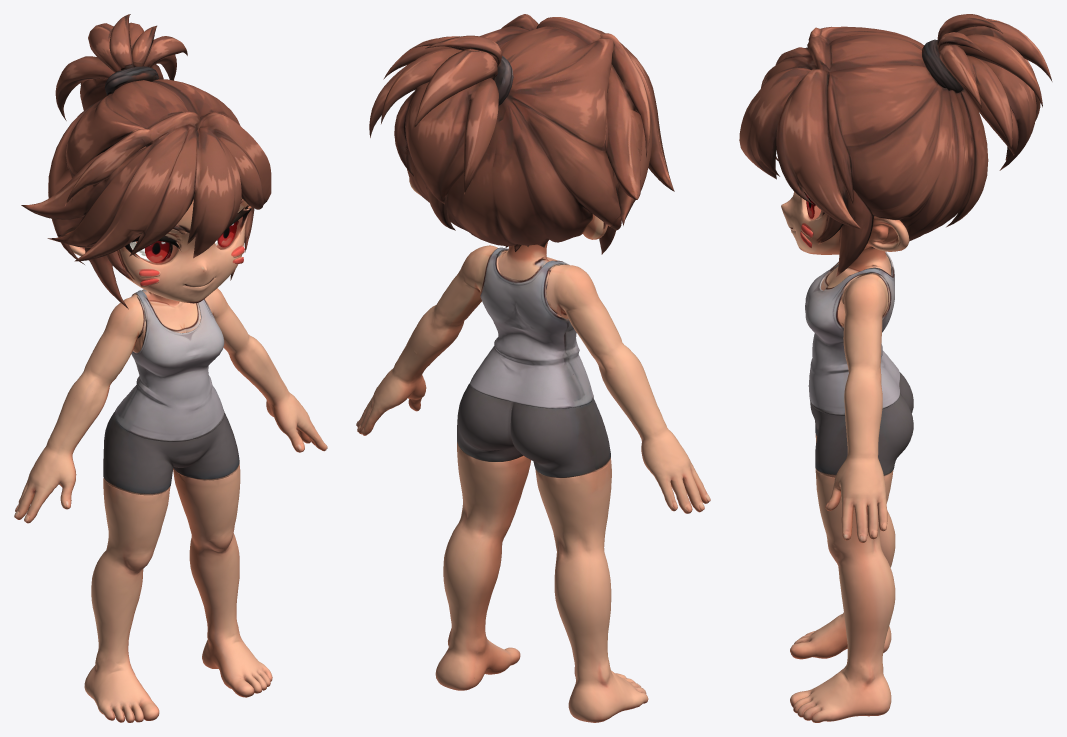
Rendered from tripo_base_v1_tex.glb.
The picture shows the model from 3 angles, left to right: view 1: azimuth 30°, elevation 25°; view 2: azimuth 150°, elevation 25°; view 3: azimuth 270°, elevation 25°; orthographic projection. The views are drawn at different scales.
Parts seen in each view (by area): view 1: tripo_part_1, tripo_part_8, tripo_part_5, tripo_part_4, tripo_part_2, tripo_part_6, tripo_part_0, tripo_part_3, tripo_part_9, tripo_part_13, tripo_part_16, tripo_part_18 (+3 smaller); view 2: tripo_part_1, tripo_part_8, tripo_part_4, tripo_part_5, tripo_part_2, tripo_part_6, tripo_part_9, tripo_part_3, tripo_part_16, tripo_part_0, tripo_part_14, tripo_part_13 (+2 smaller); view 3: tripo_part_1, tripo_part_4, tripo_part_3, tripo_part_5, tripo_part_9, tripo_part_6, tripo_part_0, tripo_part_8, tripo_part_14, tripo_part_20, tripo_part_25, tripo_part_16 (+3 smaller).
Boxes of the visible parts, bbox=[...] form: tripo_part_1: bbox=[21, 79, 271, 265]; tripo_part_8: bbox=[84, 478, 170, 722]; tripo_part_5: bbox=[115, 290, 224, 441]; tripo_part_4: bbox=[173, 465, 272, 697]; tripo_part_2: bbox=[14, 294, 145, 523]; tripo_part_6: bbox=[103, 412, 239, 495]; tripo_part_0: bbox=[69, 146, 248, 333]; tripo_part_3: bbox=[205, 288, 327, 452]; tripo_part_9: bbox=[55, 55, 176, 120]; tripo_part_13: bbox=[109, 14, 133, 70]; tripo_part_16: bbox=[88, 23, 120, 72]; tripo_part_18: bbox=[104, 66, 158, 95]; tripo_part_1: bbox=[407, 14, 674, 251]; tripo_part_8: bbox=[535, 457, 648, 722]; tripo_part_4: bbox=[435, 442, 531, 690]; tripo_part_5: bbox=[470, 247, 593, 408]; tripo_part_2: bbox=[548, 264, 710, 513]; tripo_part_6: bbox=[457, 383, 610, 477]; tripo_part_9: bbox=[369, 61, 498, 204]; tripo_part_3: bbox=[356, 245, 497, 435]; tripo_part_16: bbox=[414, 49, 497, 128]; tripo_part_0: bbox=[409, 79, 607, 281]; tripo_part_14: bbox=[381, 48, 462, 123]; tripo_part_13: bbox=[425, 35, 502, 66]; tripo_part_1: bbox=[739, 26, 974, 249]; tripo_part_4: bbox=[790, 470, 895, 722]; tripo_part_3: bbox=[825, 273, 889, 543]; tripo_part_5: bbox=[805, 251, 899, 415]; tripo_part_9: bbox=[958, 55, 1040, 170]; tripo_part_6: bbox=[810, 372, 913, 477]; tripo_part_0: bbox=[781, 191, 909, 290]; tripo_part_8: bbox=[790, 434, 895, 659]; tripo_part_14: bbox=[958, 34, 1042, 107]; tripo_part_20: bbox=[836, 189, 874, 276]; tripo_part_25: bbox=[946, 89, 988, 227]; tripo_part_16: bbox=[957, 18, 1052, 81].
Size of the model in its own units: 0.5161 by 0.9995 by 0.4234.
36 materials, 36 textured.
